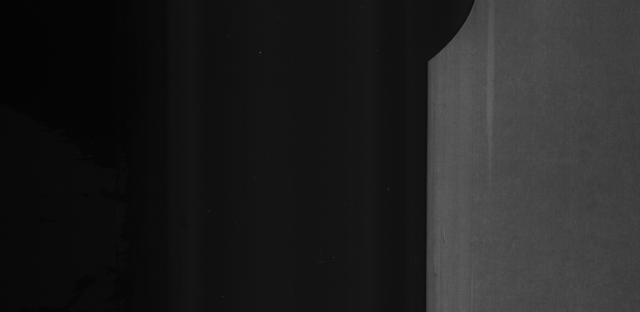crescent_gap: (402, 0, 492, 67)
